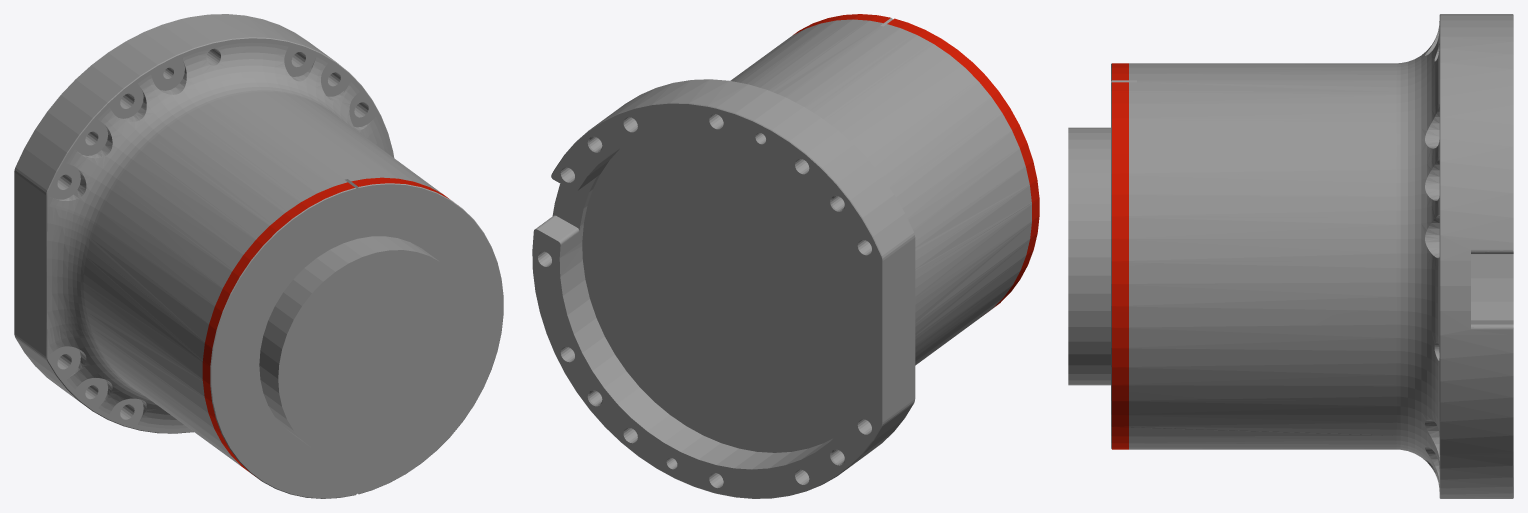
3 views of the same model, side by side, from view 1: azimuth 30°, elevation 25°; view 2: azimuth 150°, elevation 25°; view 3: azimuth 270°, elevation 25° (orthographic). The views are drawn at different scales.
Visible parts, largest first — view 1: AR5-5_07L-W4S4A1-ZY_base; view 2: AR5-5_07L-W4S4A1-ZY_base; view 3: AR5-5_07L-W4S4A1-ZY_base.
Boxes of the visible parts, left/top/right/bottom form: AR5-5_07L-W4S4A1-ZY_base: left=14, top=14, right=503, bottom=498; AR5-5_07L-W4S4A1-ZY_base: left=532, top=14, right=1039, bottom=498; AR5-5_07L-W4S4A1-ZY_base: left=1068, top=14, right=1513, bottom=498.
Bounding box in the file's own units: 0.1075 × 0.113 × 0.1038.
